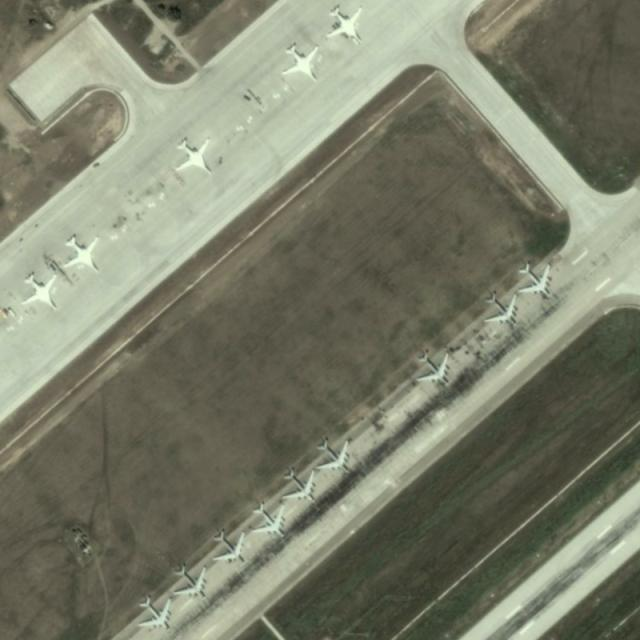fighter jet: (323, 3, 367, 49), (514, 258, 558, 304), (282, 464, 321, 513), (316, 432, 356, 478), (412, 345, 452, 390), (168, 137, 210, 177), (132, 594, 174, 634), (60, 237, 101, 277), (280, 42, 317, 84), (169, 559, 209, 596), (20, 270, 56, 310), (252, 501, 286, 541), (480, 293, 516, 330), (211, 530, 246, 566)
